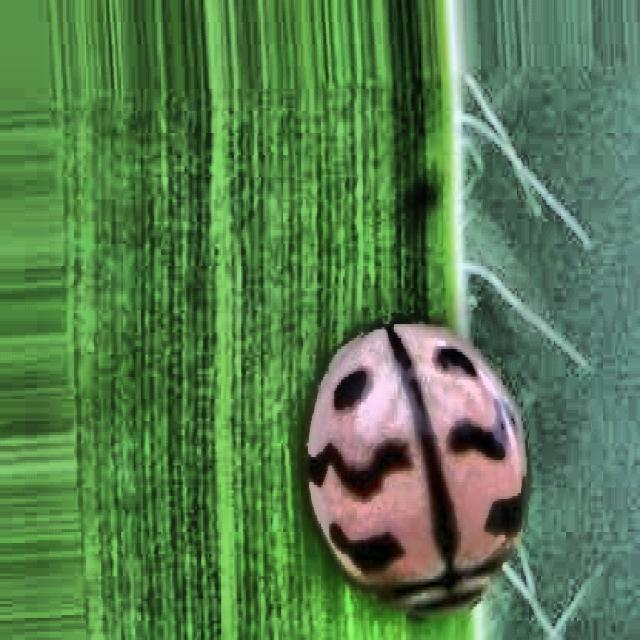Asian-Lady-beetle: (278, 280, 560, 637)
